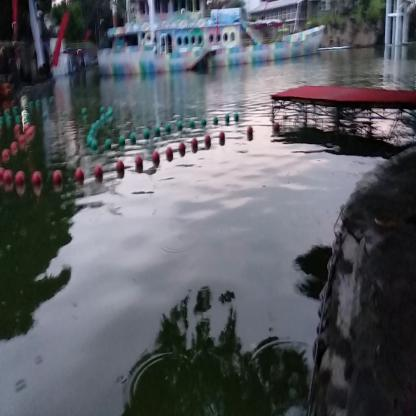green_buoy: (91, 140, 98, 154), (88, 136, 94, 152), (224, 112, 231, 122), (166, 122, 172, 133), (144, 129, 150, 140), (120, 137, 126, 148), (202, 116, 207, 129), (94, 120, 99, 133), (213, 116, 219, 126), (106, 141, 113, 149), (190, 118, 195, 128), (131, 134, 136, 144), (177, 121, 182, 130), (155, 126, 160, 135)
red_buoy: (51, 170, 63, 191), (3, 168, 12, 194), (16, 174, 26, 191), (116, 158, 125, 176), (18, 135, 28, 151), (151, 151, 162, 164), (33, 171, 41, 188), (75, 169, 84, 184), (166, 145, 173, 162), (245, 125, 254, 138), (135, 157, 142, 173), (180, 141, 187, 156), (96, 166, 104, 179), (2, 150, 9, 163), (220, 132, 226, 145), (12, 144, 18, 156), (205, 135, 212, 144), (193, 138, 198, 150)
